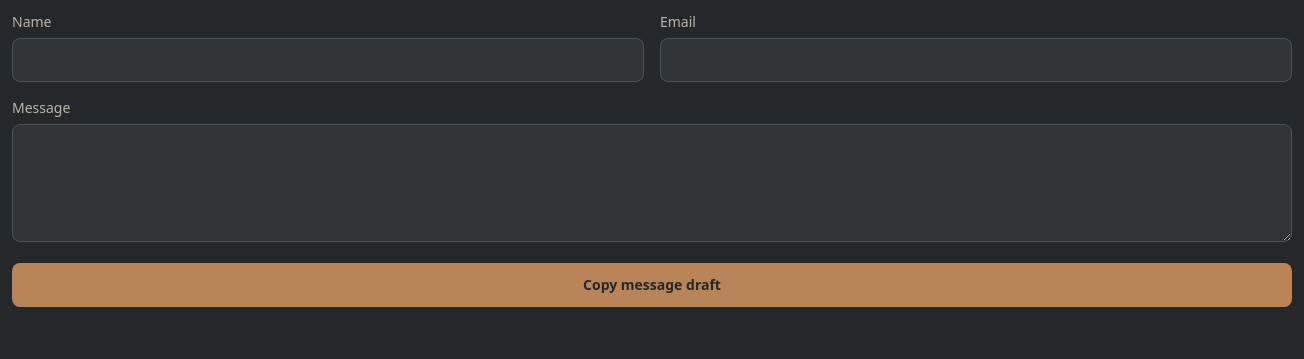
Test: ContactDraftForm › reports clipboard denial while preserving the draft fields
In the field labelled "Name": x=328, y=60 left=12, top=38, right=644, bottom=82, type "A"
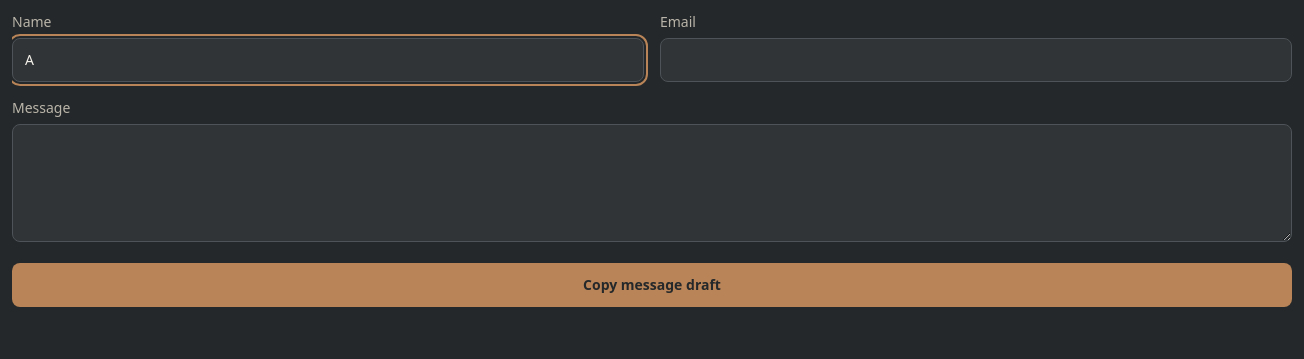
In the field labelled "Email": x=976, y=60 left=660, top=38, right=1292, bottom=82, type "a@b.co"
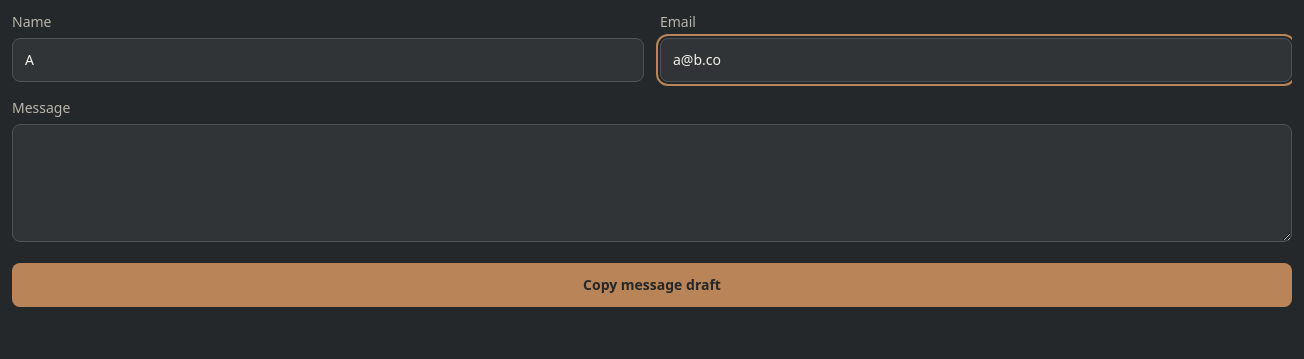
In the text box labelled "Message": x=652, y=183 left=12, top=124, right=1292, bottom=242, type "Hello"
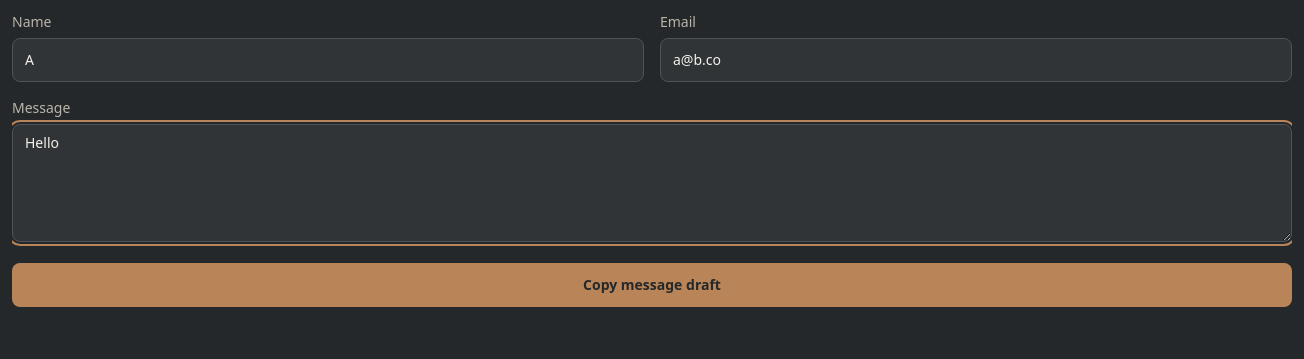
Click the button "Copy message draft": x=652, y=285 left=12, top=263, right=1292, bottom=307
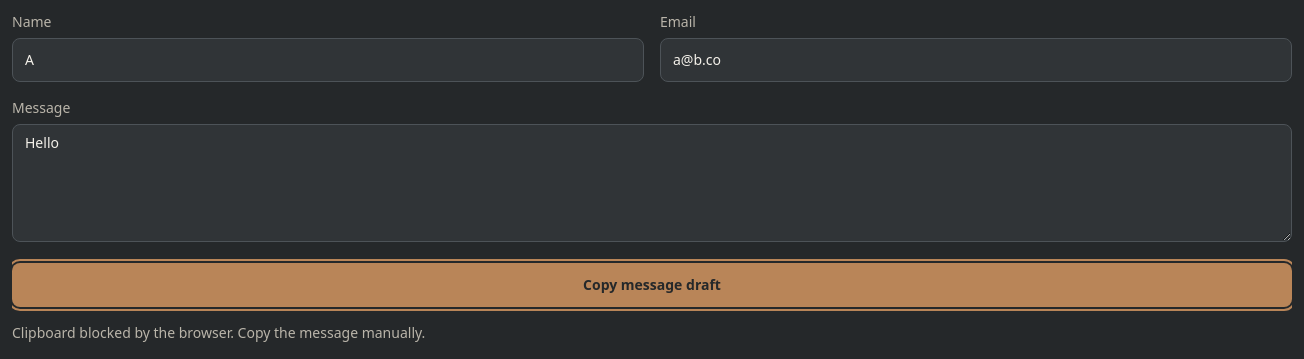
Check: the message reads "Clipboard blocked by the browser. Copy the message manually.", box left=12, top=323, right=425, bottom=342
